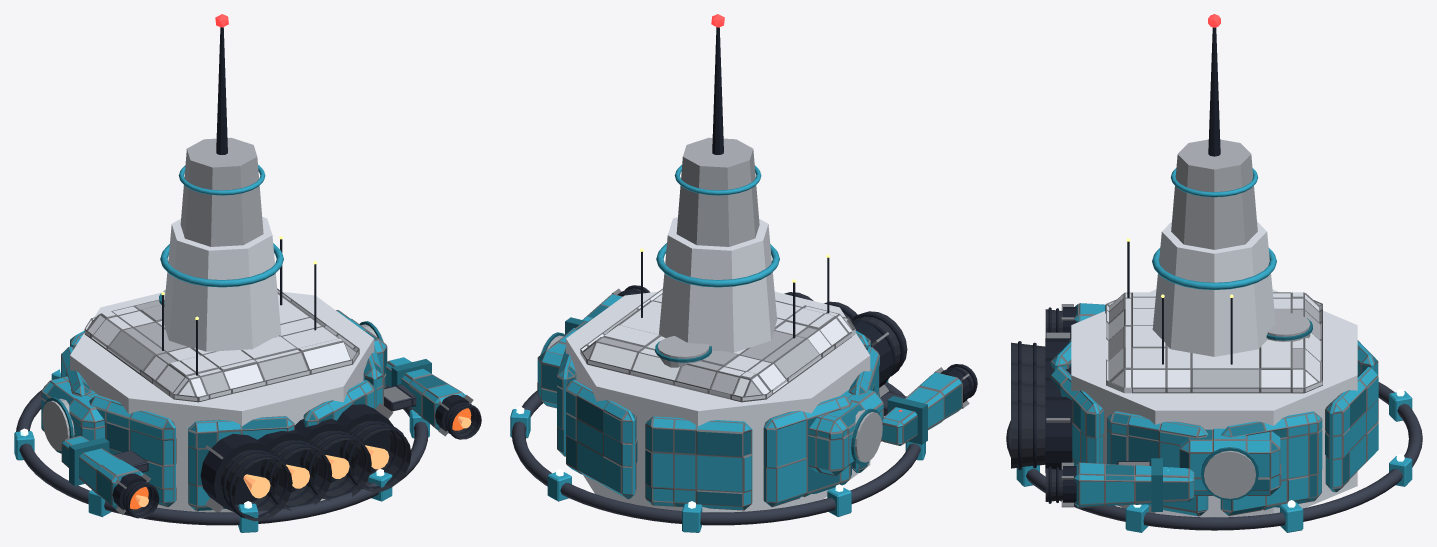
The model's file is warden.glb.
3 views of the same model, side by side, from view 1: azimuth 30°, elevation 25°; view 2: azimuth 150°, elevation 25°; view 3: azimuth 270°, elevation 25° (orthographic).
Parts seen in each view (by area): view 1: warden_mesh; view 2: warden_mesh; view 3: warden_mesh.
Part boxes in pixels (<box>): warden_mesh: <box>14,14,481,532</box>; warden_mesh: <box>510,14,977,532</box>; warden_mesh: <box>1006,14,1422,532</box>.
Bounding box in the file's own units: 12.27 × 15.18 × 12.27.
